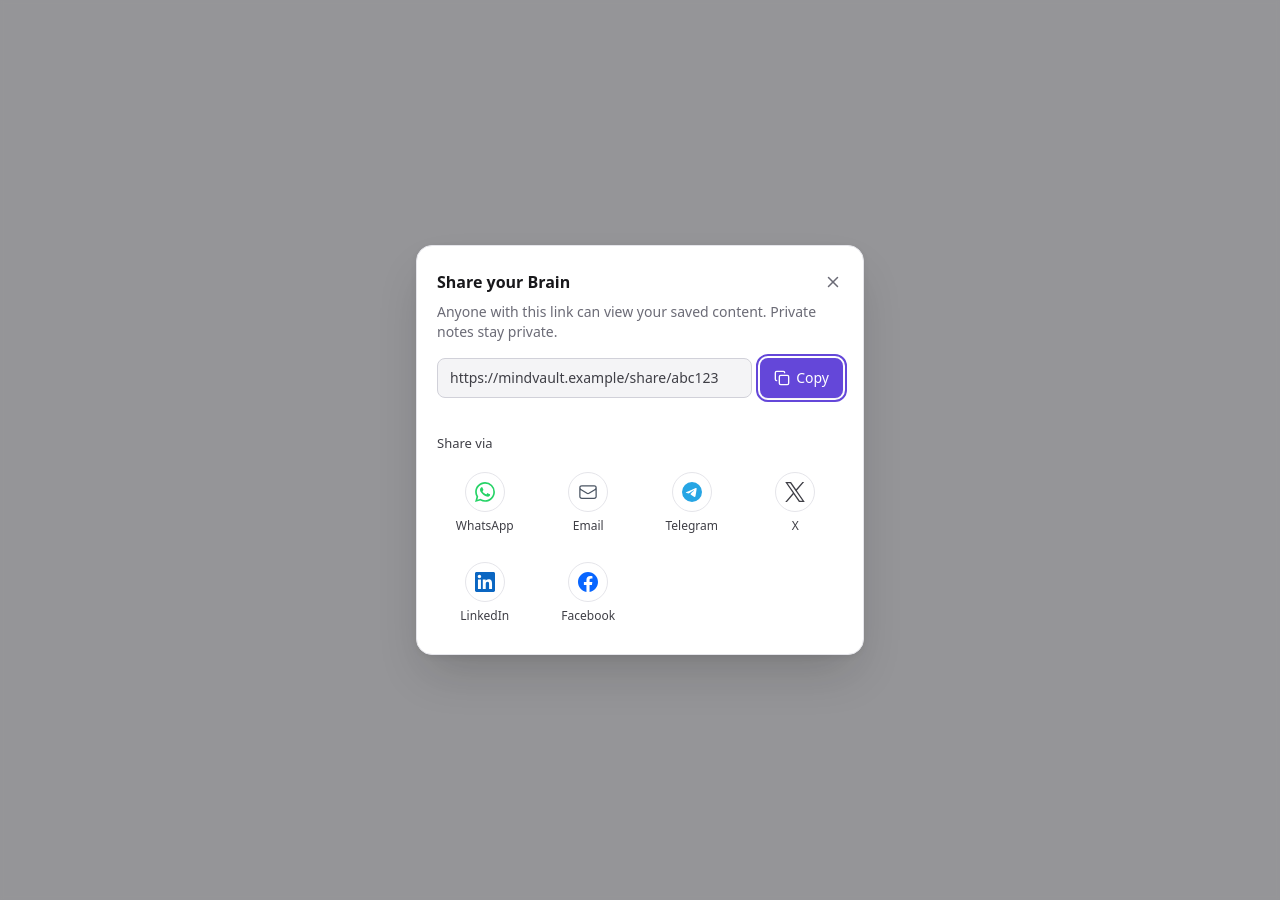
Test: ShareDialog › explains how to copy manually when the clipboard is blocked
What coordinates should you click on to do the following:
click the button "Copy"
I would click on:
 (802, 378)
Its box is [760,358,843,398].
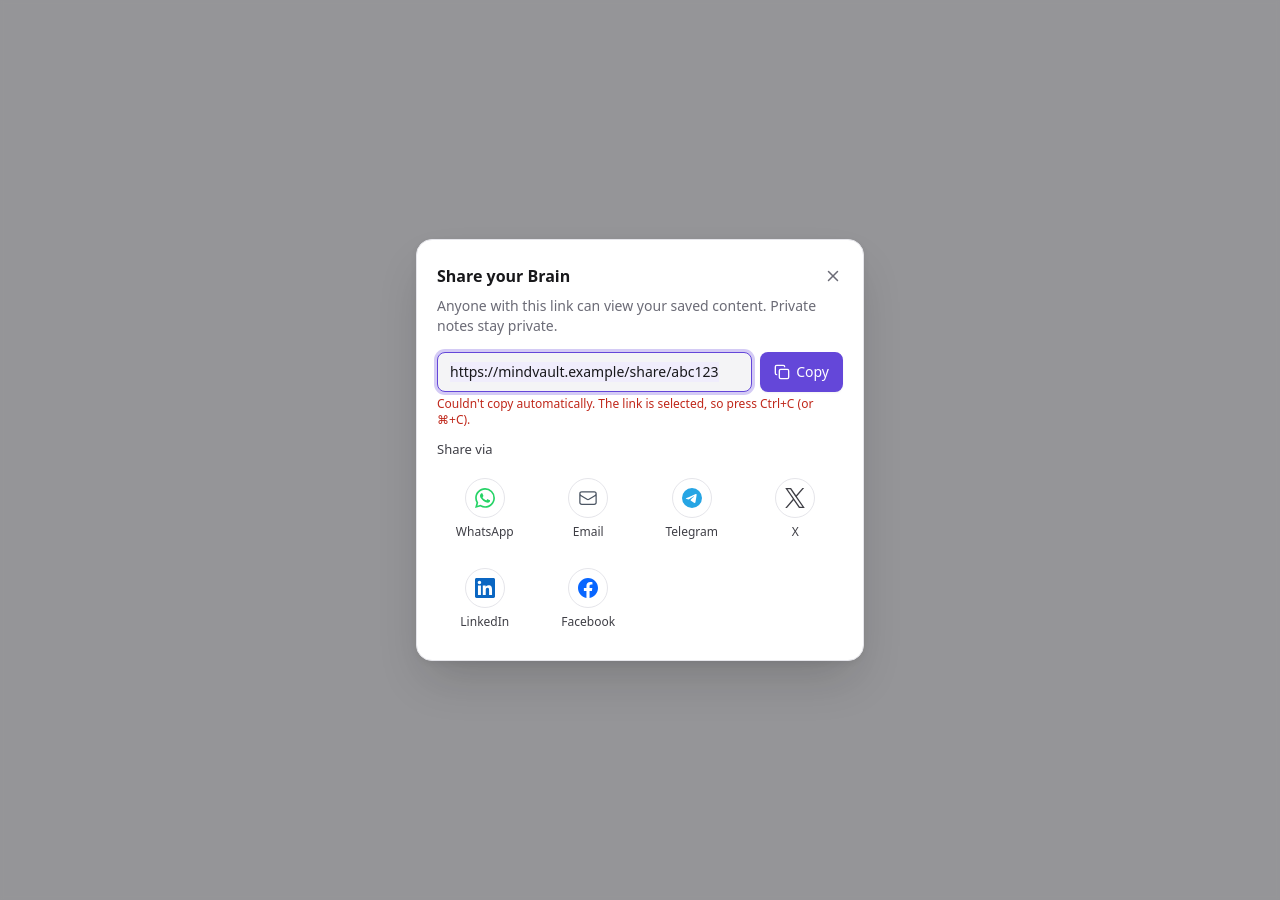
Expected: the text "Couldn't copy automatically" is shown, [437,395,813,428]
